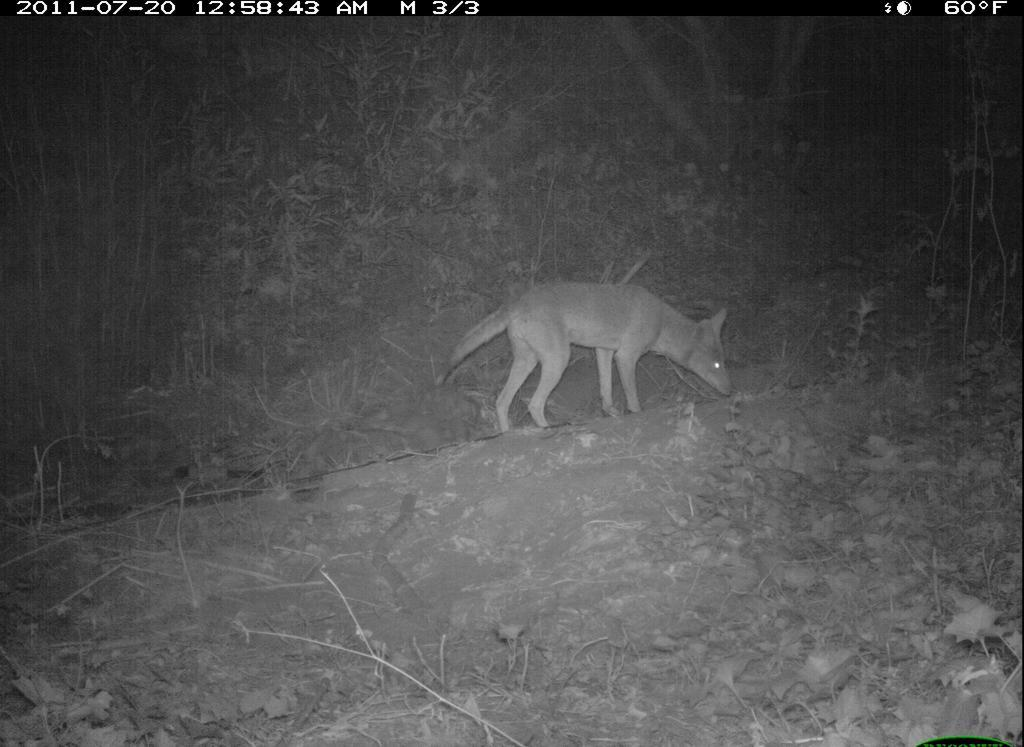coyote: (427, 250, 757, 464)
